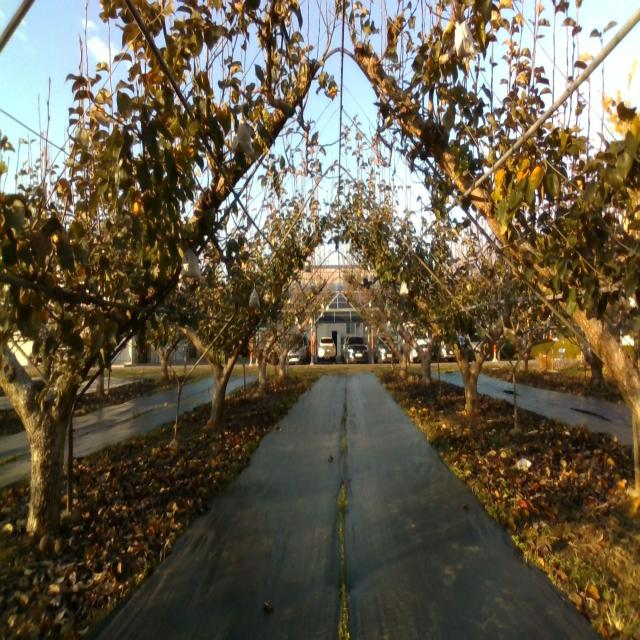pearbags: (232, 122, 256, 156), (453, 21, 474, 58), (179, 248, 201, 282), (249, 288, 260, 309)
